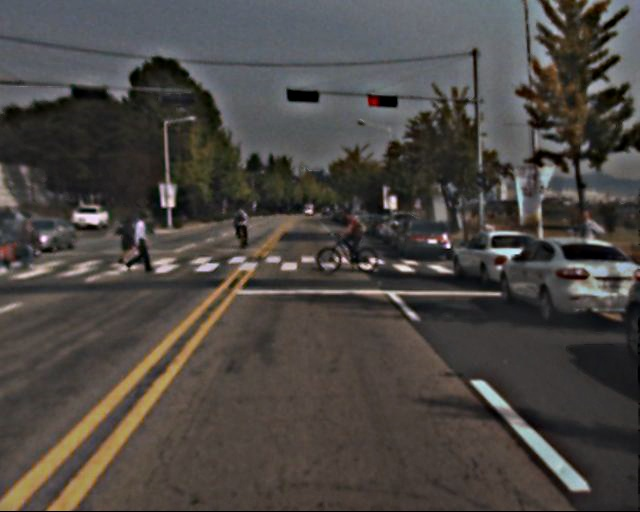person: (2, 215, 42, 273), (338, 208, 363, 269), (131, 215, 155, 274), (117, 220, 138, 271), (232, 207, 250, 252)
